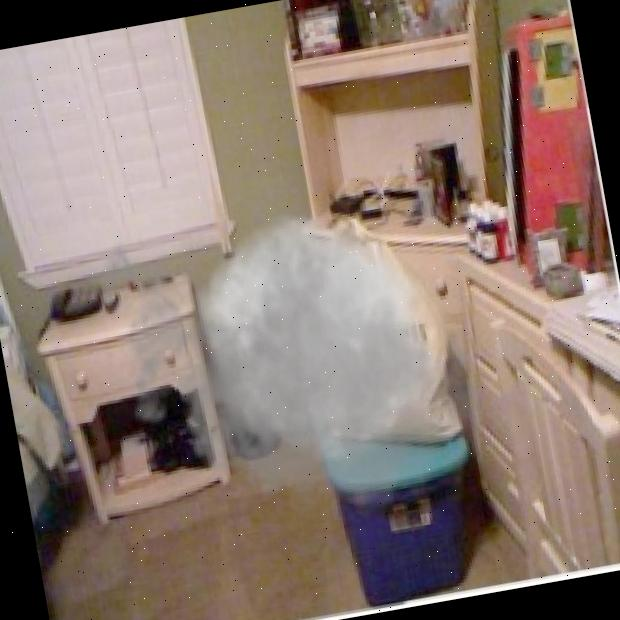smoke: (70, 118, 517, 570)
